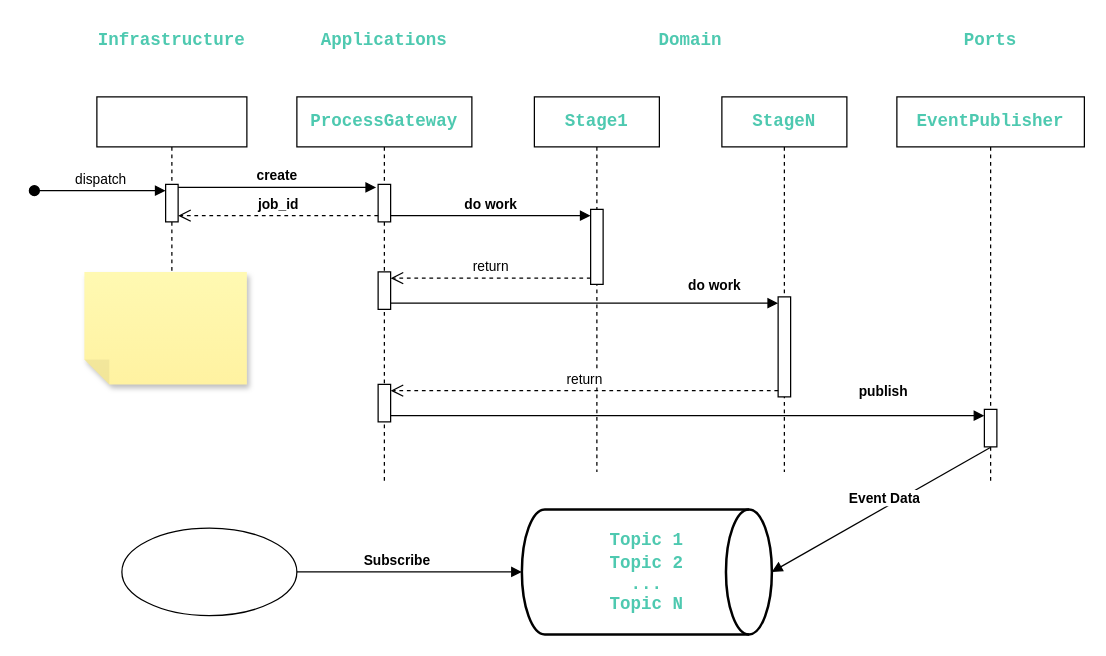
Some shapes in this 1106 by 656 pixel diagram are drawn without their labels. Here are the shapes that lost their labels. From the top down, the centre of each, then its label:
At [171,184]: "Adapters".
At [166,329]: "- APIs Rest - gRPC - Shedulers".
At [209,571]: "Consumers".
